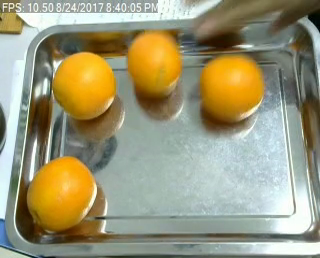Orange: (26, 154, 97, 231), (198, 52, 263, 120), (54, 51, 117, 118), (127, 30, 180, 98)
